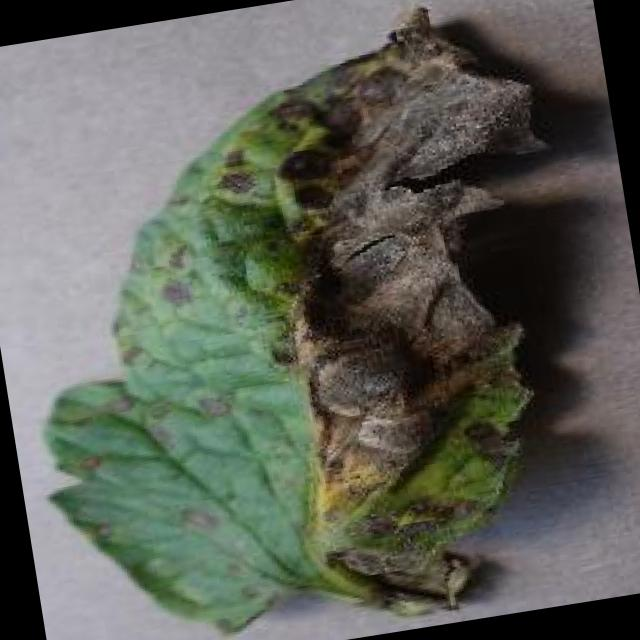Tomato_Early_Blight: (145, 8, 612, 638)
